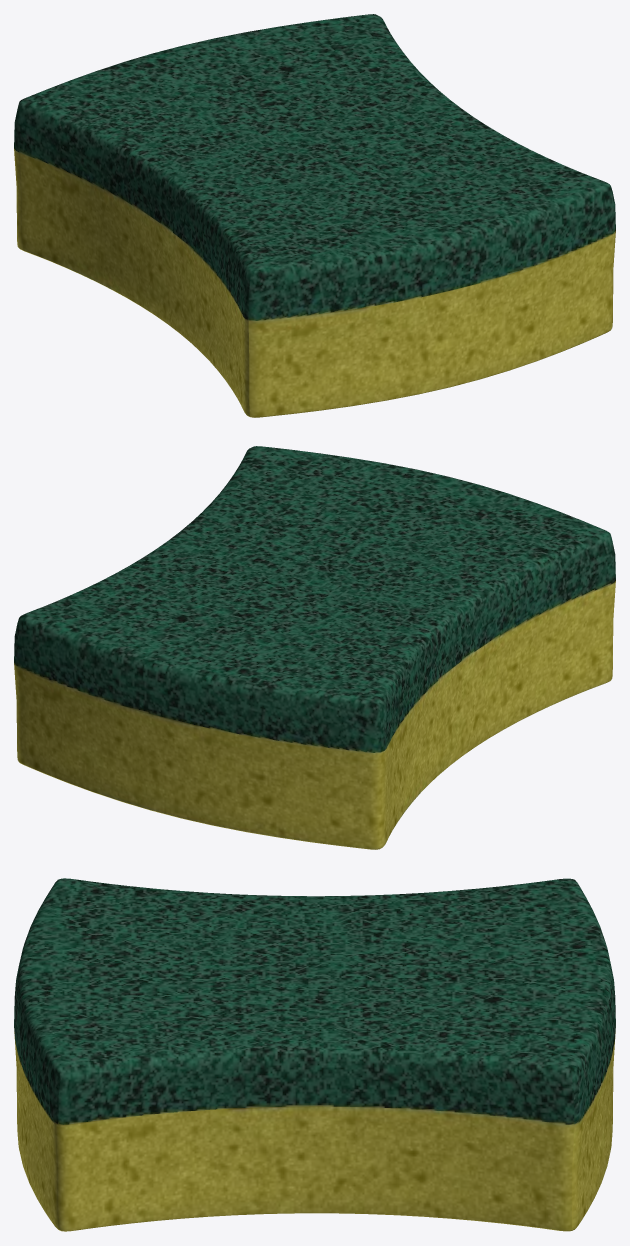
The model's file is cleaning_sponge_c01.glb.
The picture shows the model from 3 angles, top to bottom: view 1: azimuth 30°, elevation 25°; view 2: azimuth 150°, elevation 25°; view 3: azimuth 270°, elevation 25°; orthographic projection. The views are drawn at different scales.
Visible parts, largest first — view 1: part0; view 2: part0; view 3: part0.
Part boxes in pixels (bbox=[...]): part0: bbox=[14, 14, 615, 417]; part0: bbox=[14, 446, 615, 849]; part0: bbox=[14, 878, 615, 1231].
Bounding box in the file's own units: 0.0708 × 0.0272 × 0.0909.
Materials: 1 (1 with a texture image).
